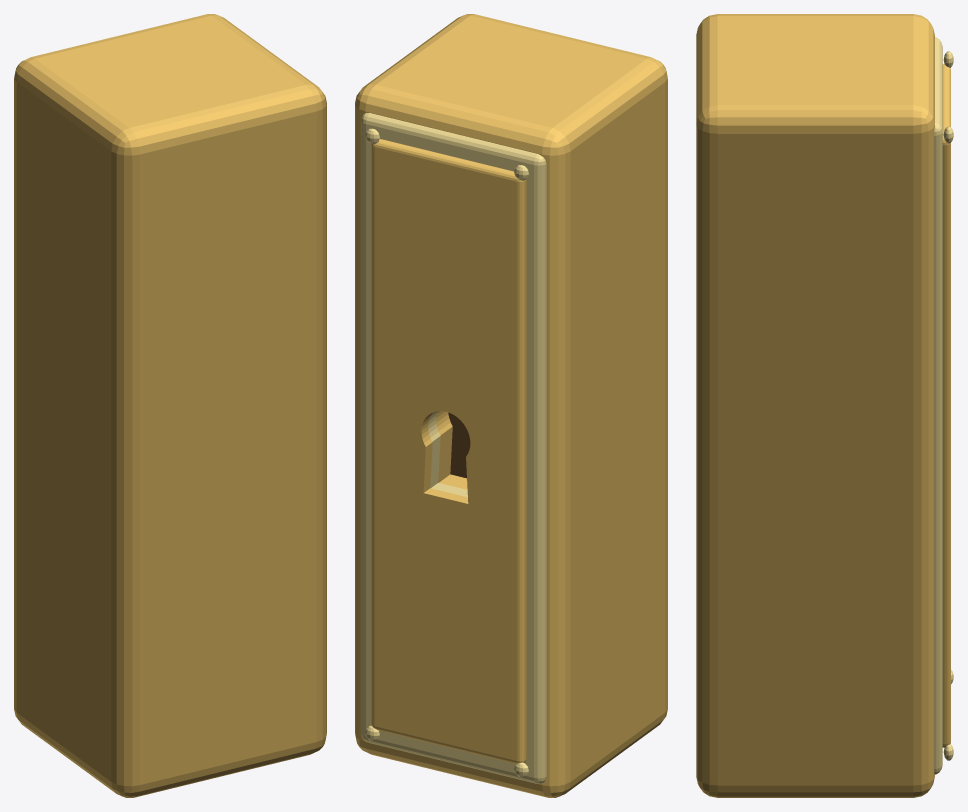
The model's file is GoldenDoor.fbx.
The picture shows the model from 3 angles, left to right: view 1: azimuth 30°, elevation 25°; view 2: azimuth 150°, elevation 25°; view 3: azimuth 270°, elevation 25°; orthographic projection. The views are drawn at different scales.
Parts seen in each view (by area): view 1: DoorGold; view 2: DoorGold, DoorTrim, DoorRecess; view 3: DoorGold, DoorTrim.
Boxes of the visible parts, bbox=[...] form: DoorGold: bbox=[14, 14, 326, 797]; DoorGold: bbox=[355, 14, 667, 797]; DoorTrim: bbox=[361, 113, 546, 783]; DoorRecess: bbox=[448, 412, 470, 478]; DoorGold: bbox=[696, 14, 950, 797]; DoorTrim: bbox=[934, 37, 953, 774].
Size of the model in its own units: 1 by 3 by 1.01.
